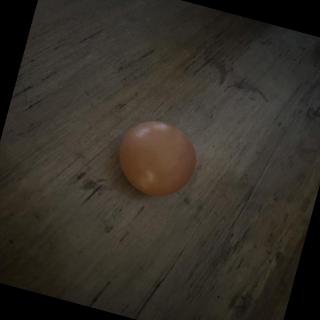Telur: (109, 110, 210, 208)
